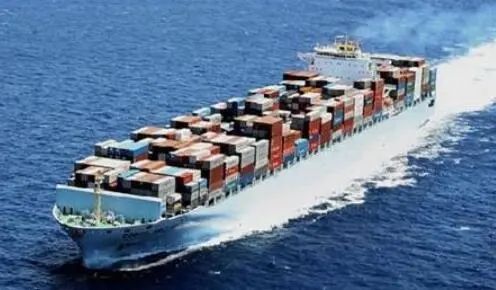Cargoship: (52, 30, 440, 259)
